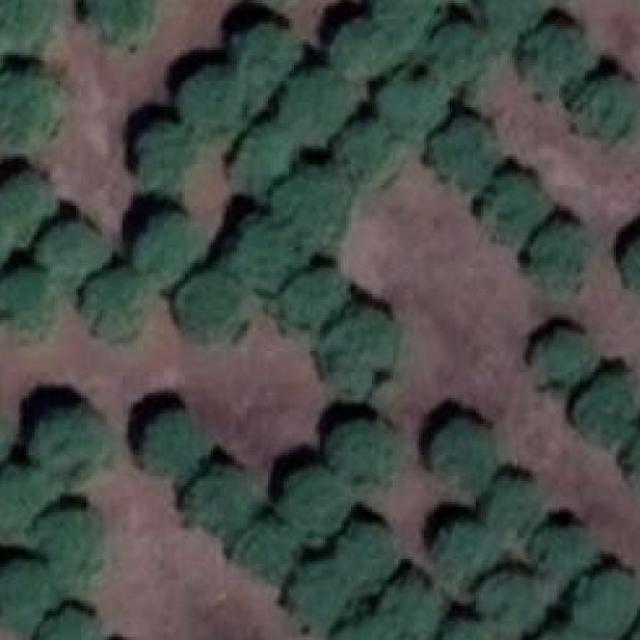Tree: (312, 308, 392, 390), (284, 164, 351, 242), (172, 268, 240, 344), (31, 408, 102, 479), (37, 510, 103, 586), (330, 419, 398, 491), (514, 29, 585, 97), (0, 66, 58, 146), (188, 469, 256, 536), (567, 76, 635, 143), (282, 71, 349, 138), (278, 465, 346, 531), (183, 66, 245, 138), (476, 569, 543, 635), (569, 569, 635, 635), (574, 374, 635, 445), (234, 216, 294, 287), (230, 22, 295, 87), (427, 417, 492, 482), (133, 214, 195, 282), (533, 219, 590, 292), (382, 574, 448, 637), (332, 523, 393, 590), (135, 406, 195, 474), (133, 123, 193, 190), (237, 118, 292, 190), (481, 174, 543, 237), (0, 559, 50, 637), (86, 268, 144, 334), (434, 117, 490, 185), (382, 74, 440, 139), (282, 268, 347, 325), (32, 222, 98, 278), (237, 517, 294, 580), (479, 476, 536, 538), (429, 520, 489, 578), (0, 465, 48, 533), (336, 18, 392, 74), (429, 19, 481, 79), (286, 562, 336, 624), (536, 526, 593, 580), (86, 0, 154, 45), (336, 117, 386, 178), (0, 0, 60, 50), (0, 273, 48, 334), (538, 328, 593, 381), (0, 172, 45, 235), (375, 0, 437, 29), (36, 611, 97, 640), (481, 0, 531, 34), (330, 616, 396, 640), (618, 229, 640, 294), (438, 621, 492, 640), (628, 422, 640, 488), (533, 626, 585, 640), (621, 618, 640, 640)
